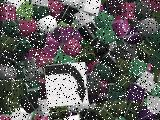Right: (44, 62, 88, 108)
